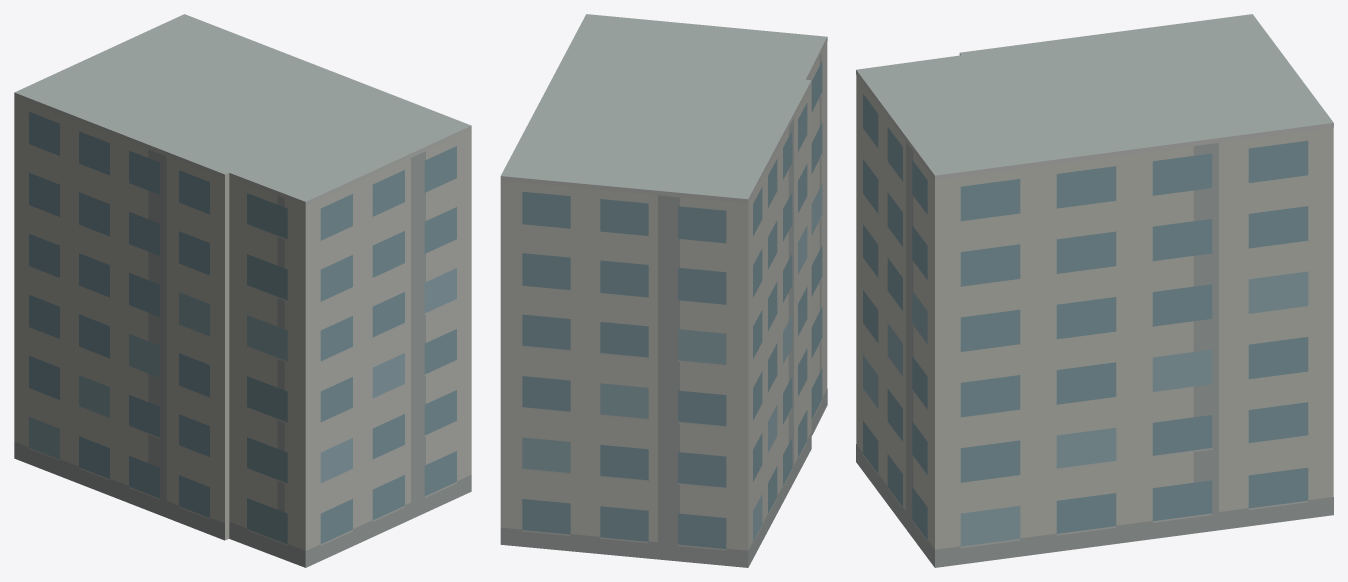
Rendered from survey-upis-32868233.glb.
The picture shows the model from 3 angles, left to right: view 1: azimuth 30°, elevation 25°; view 2: azimuth 150°, elevation 25°; view 3: azimuth 270°, elevation 25°; orthographic projection. The views are drawn at different scales.
Parts seen in each view (by area): view 1: survey-upis-32868233.tmp; view 2: survey-upis-32868233.tmp; view 3: survey-upis-32868233.tmp.
Boxes of the visible parts, left/top/right/bottom form: survey-upis-32868233.tmp: left=14, top=14, right=471, bottom=567; survey-upis-32868233.tmp: left=500, top=14, right=827, bottom=567; survey-upis-32868233.tmp: left=856, top=14, right=1333, bottom=567.
Size of the model in its own units: 17.33 by 19.6 by 21.64.
